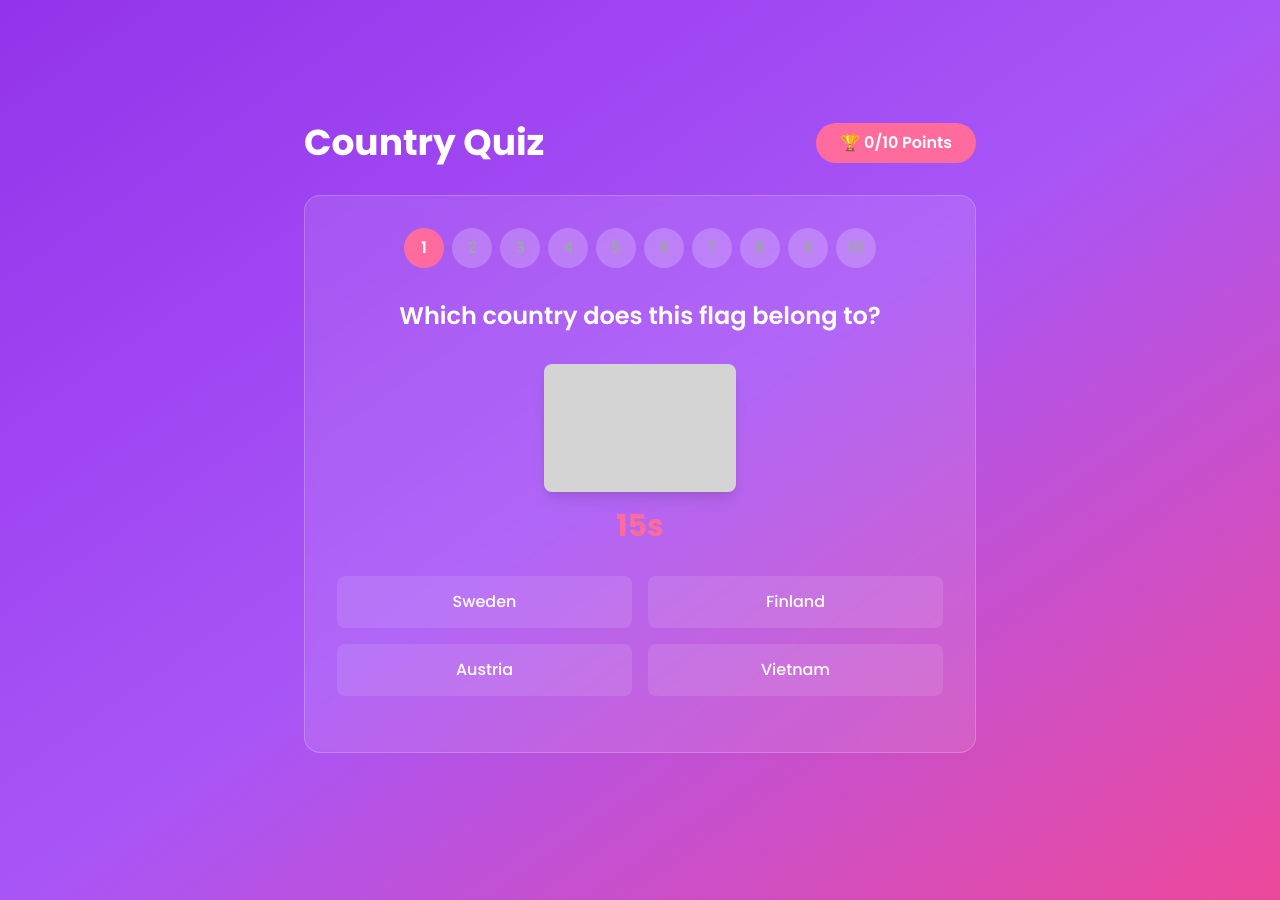
Quiz Component › should have interaction feedback
Click the button "Sweden": (484, 602) [337,576,632,628]
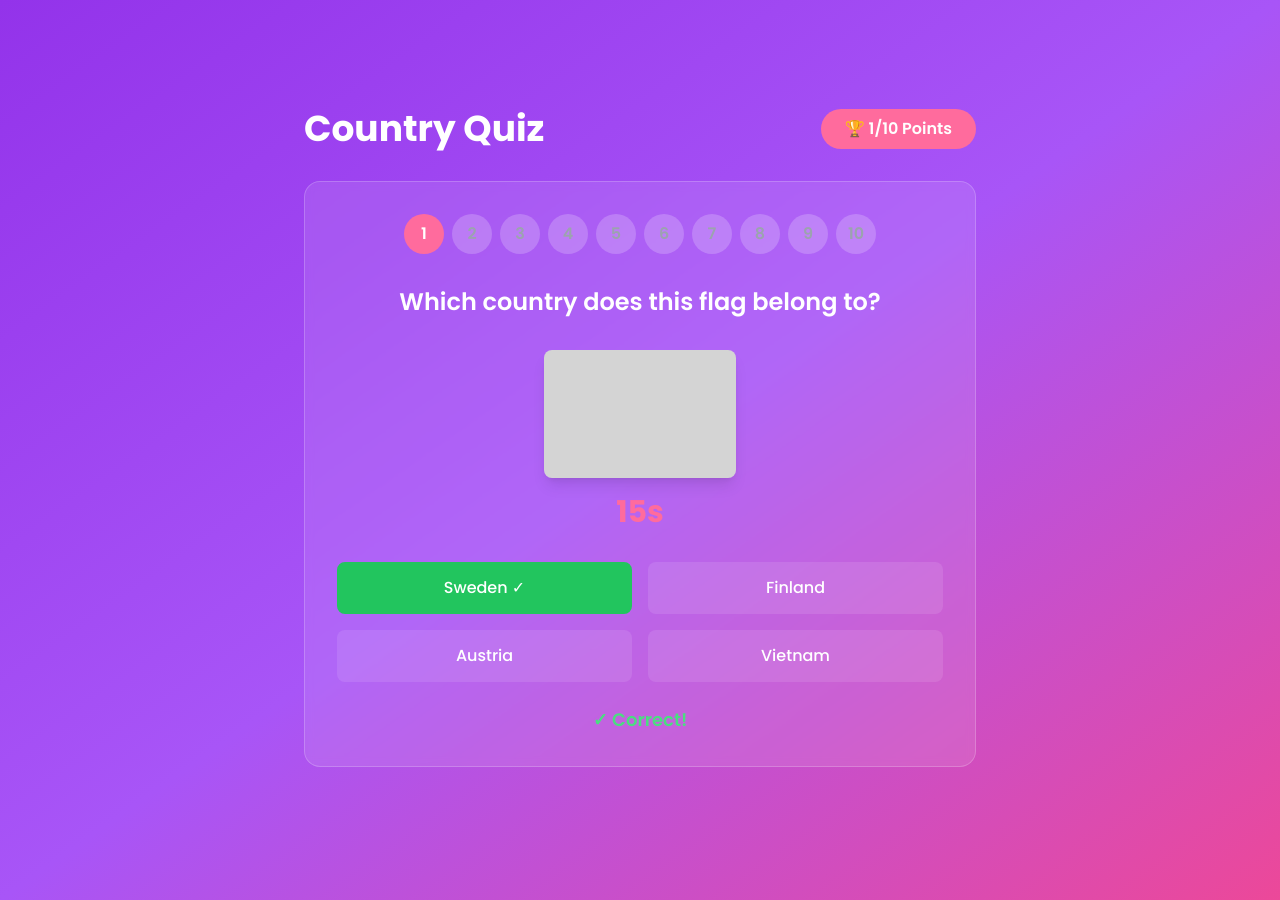
Expected: the text "✓ Correct!" is shown, [593,707,687,732]
